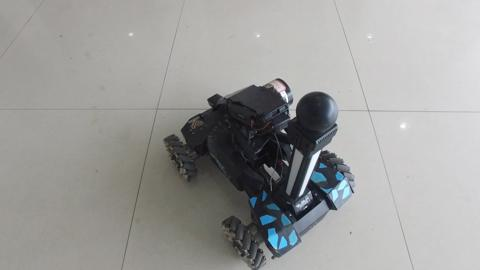chariot: (169, 70, 359, 265)
